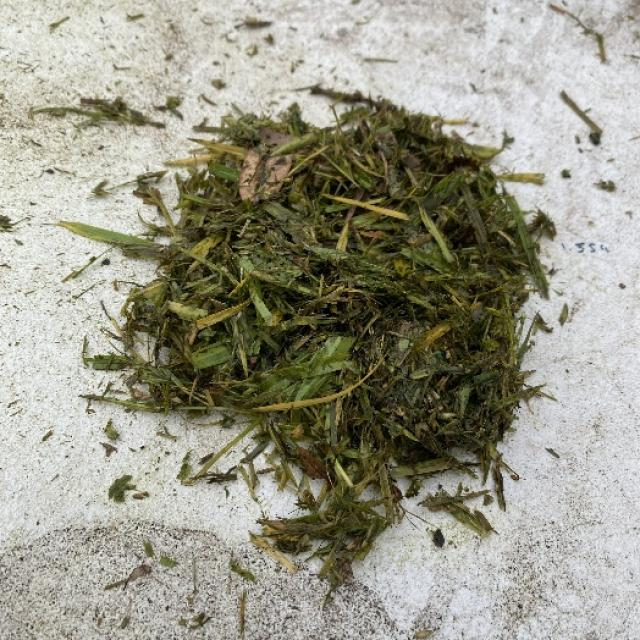organik: (136, 106, 547, 556)
